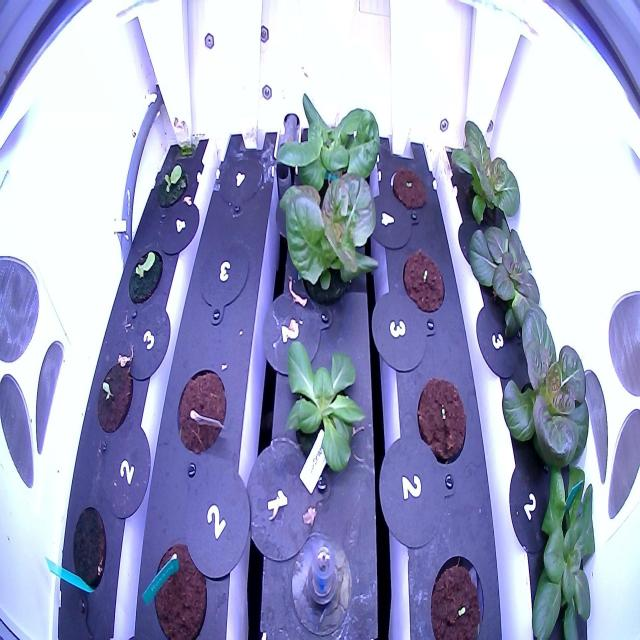empty_pod: (197, 232, 252, 328), (216, 154, 264, 216)
germination: (92, 355, 138, 440), (125, 240, 165, 310), (152, 156, 194, 214)
pod: (148, 532, 209, 636), (412, 368, 468, 472), (425, 548, 489, 638), (174, 365, 228, 459), (69, 498, 111, 596), (398, 245, 449, 315), (390, 160, 430, 216)
young: (494, 297, 596, 483), (268, 160, 385, 315), (270, 76, 386, 218), (521, 449, 606, 640), (272, 332, 369, 483), (461, 203, 553, 354), (445, 112, 525, 234)
